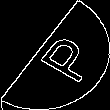P_NW: (18, 26, 92, 84)
